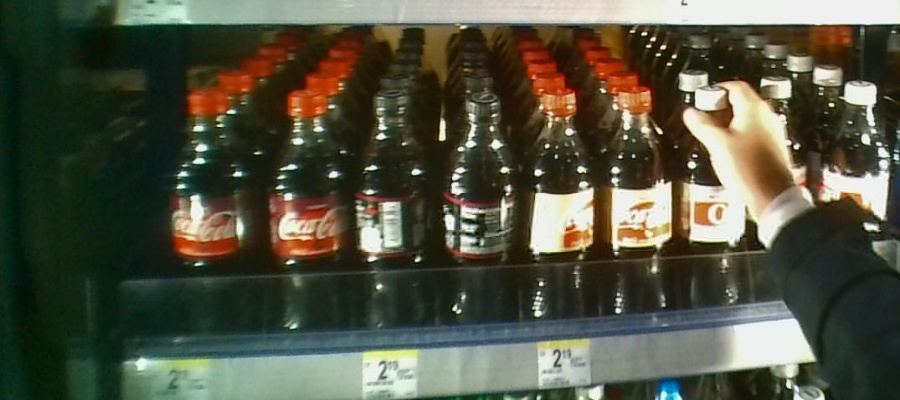bottle: (257, 91, 350, 332), (166, 85, 252, 341), (436, 87, 522, 325), (352, 84, 433, 334), (525, 83, 597, 324), (600, 84, 672, 324), (677, 82, 744, 321), (835, 78, 900, 283)
